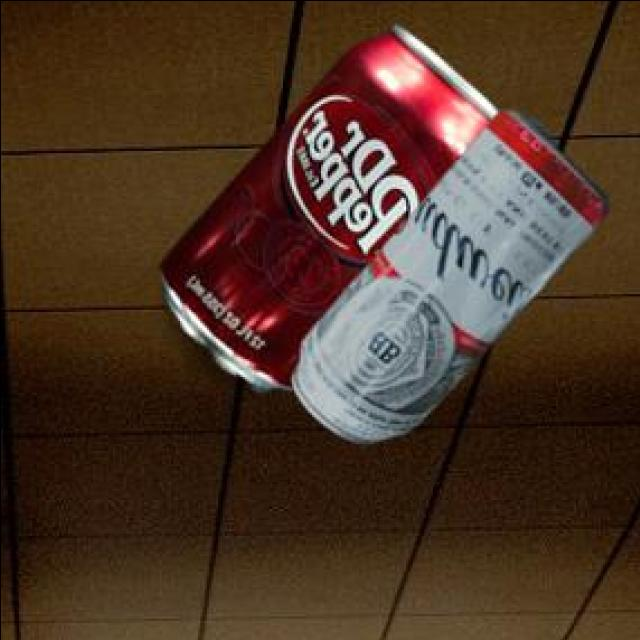logam: (156, 28, 493, 395), (288, 115, 603, 446)
